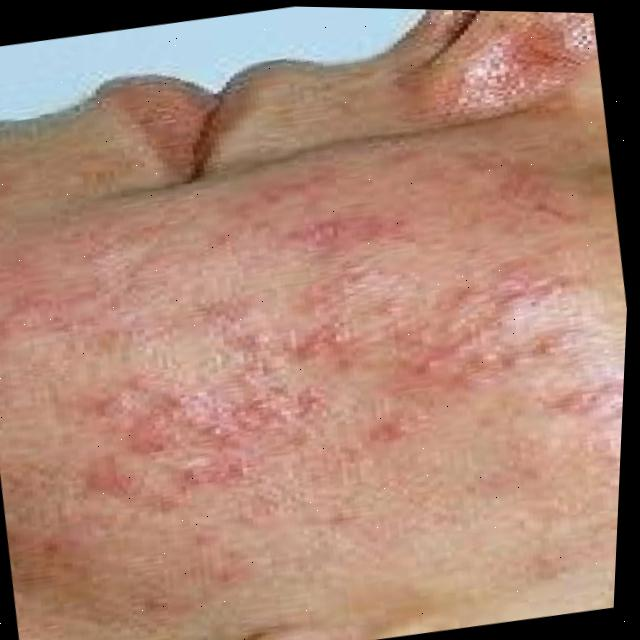Rosacea: (17, 142, 619, 567), (453, 10, 605, 109)
